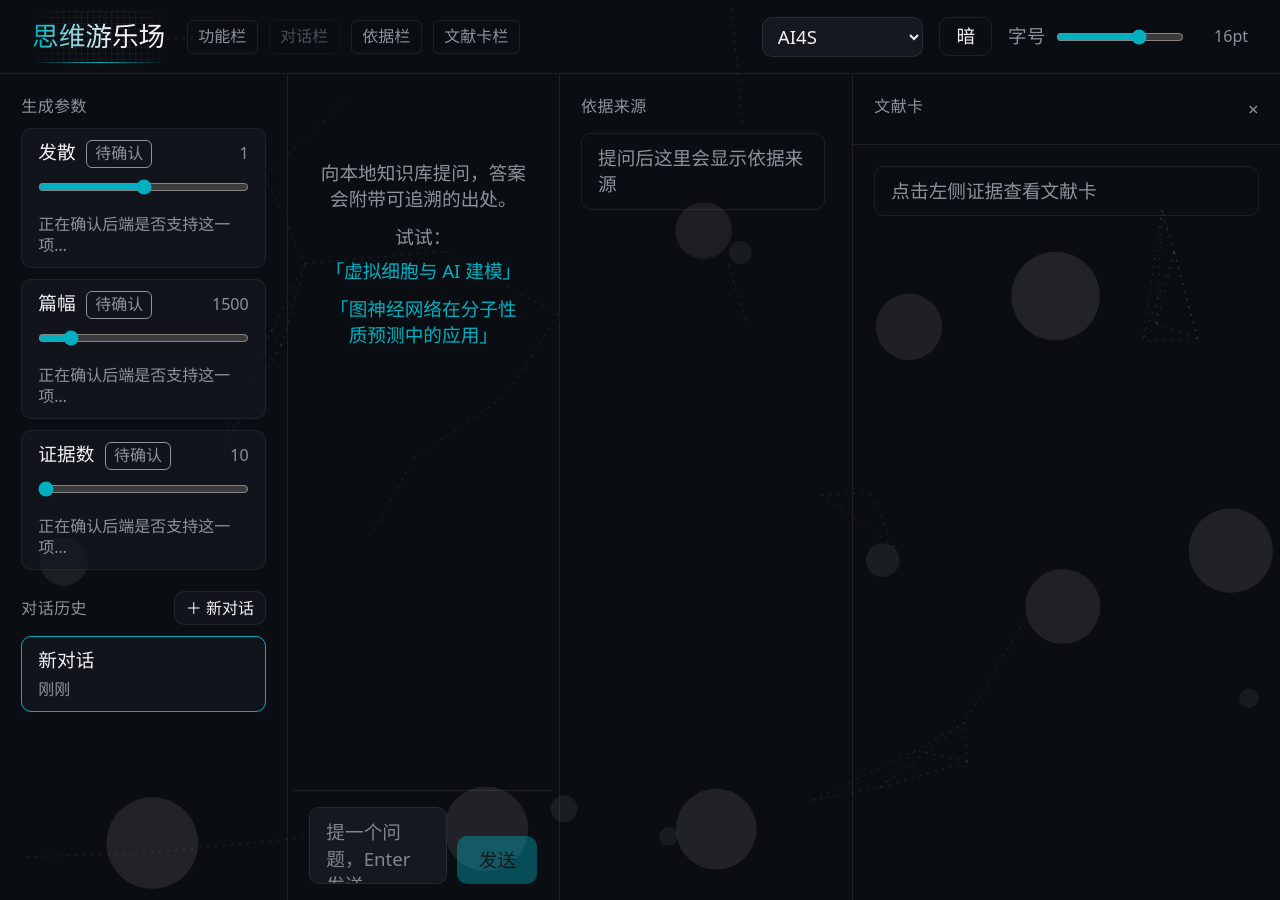
Test: App › opens the selected evidence in the doc panel and closes it when deselected
This screenshot has width=1280, height=900.
Expected: the text "点击左侧证据查看文献卡" is shown, [874,166,1259,216]
Type "自噬" into the text box.
click(378, 846); type("自噬")  # box [309,807,447,884]
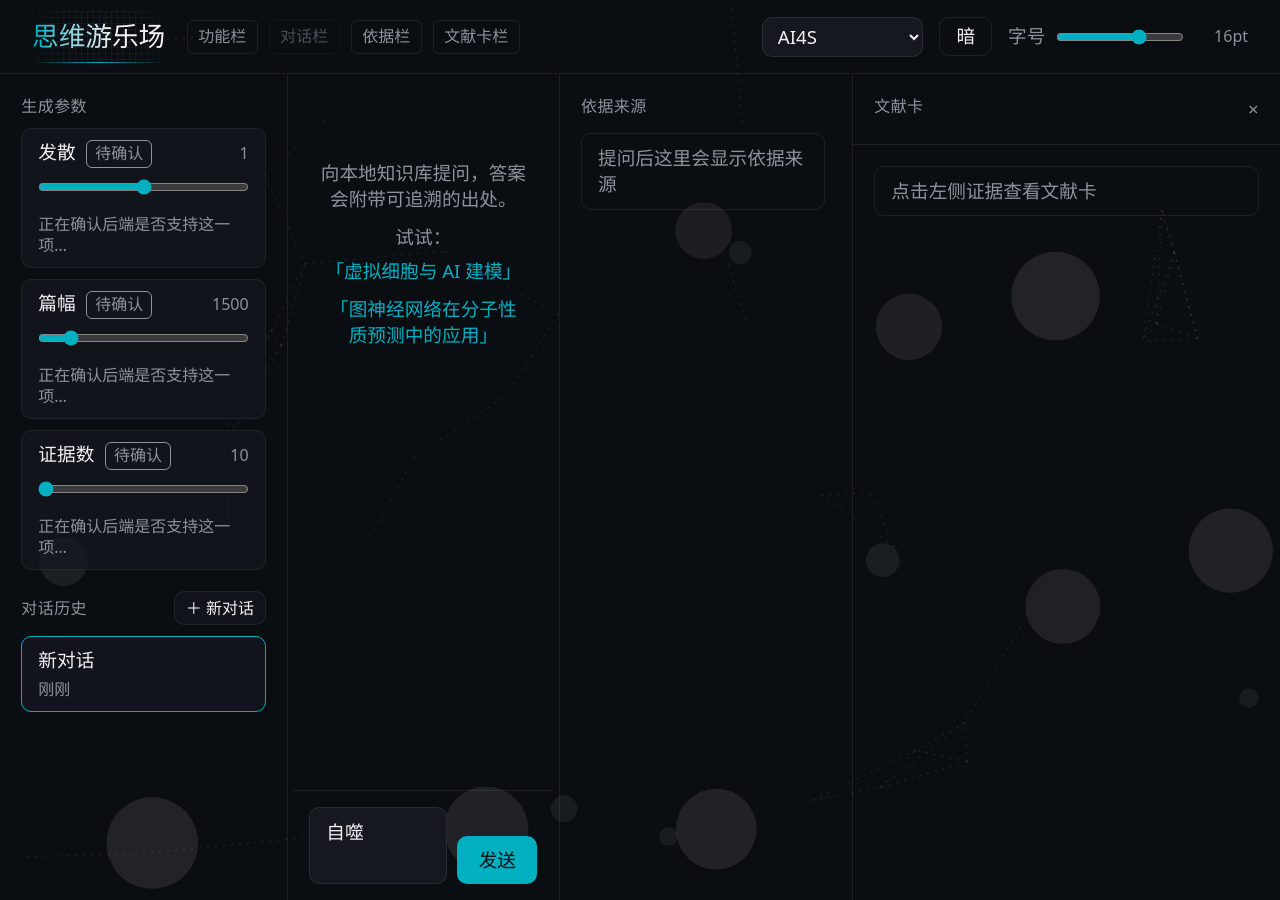
Press Enter in the text box, box [309,807,447,884]
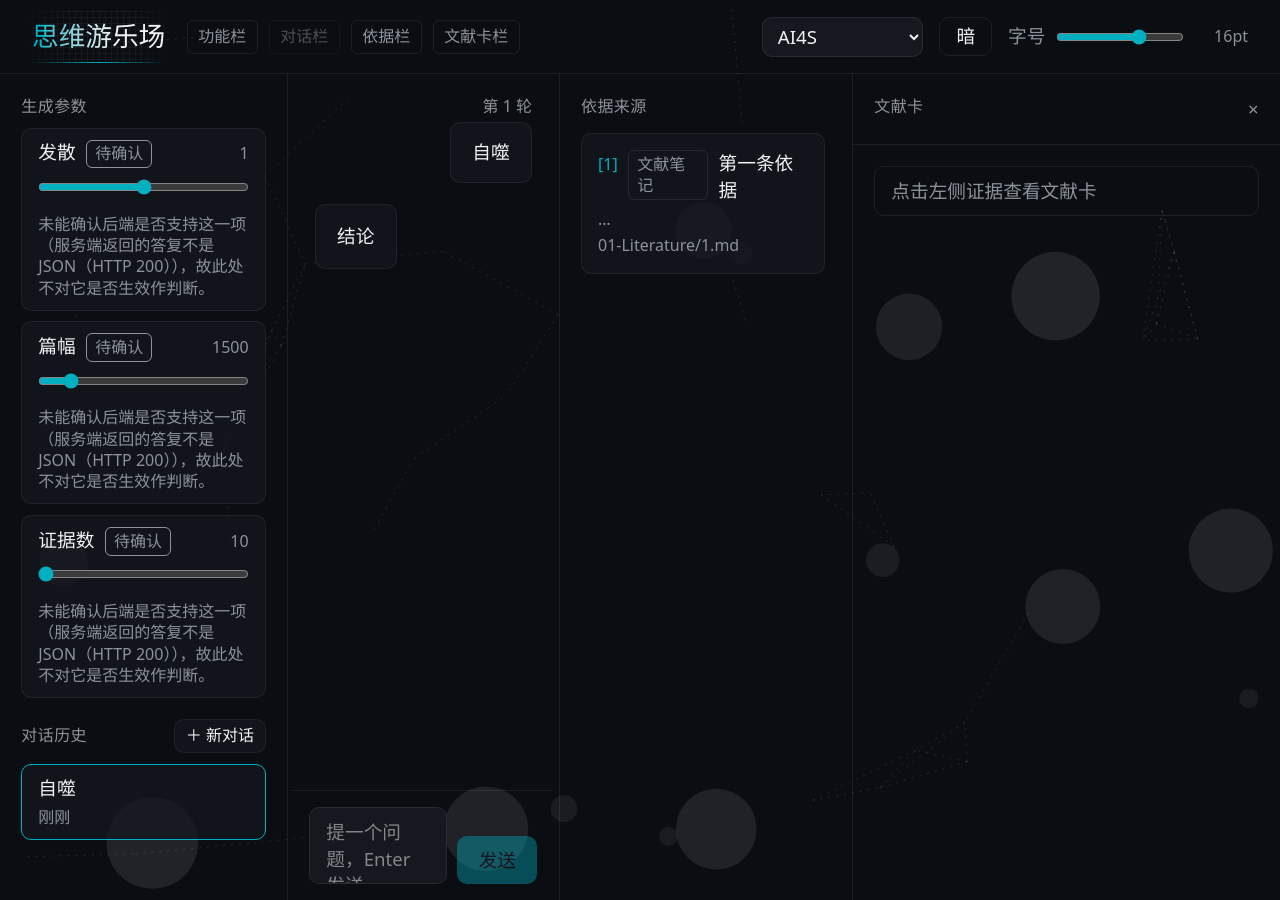
Expected: the text "第一条依据" is shown, [719,150,793,202]
Click the button "[1] 文献笔记 第一条依据 … 01-Literature/1.md".
click(703, 203)  # box [598,150,808,257]
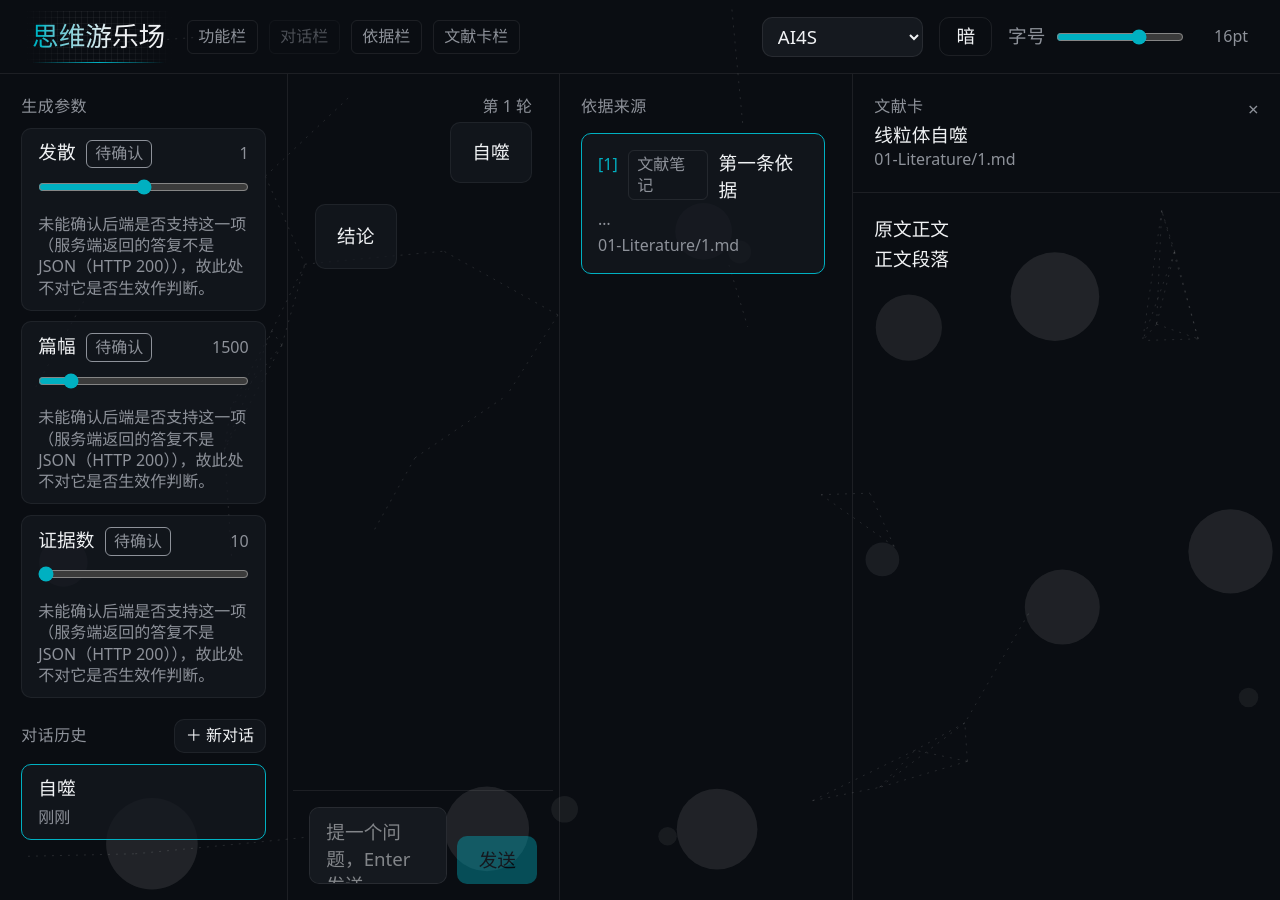
Expected: the element with test id "doc-ready" is shown, [874,216,949,271]
Expected: the text "正文段落" is shown, [874,246,949,272]
Click the button "[1] 文献笔记 第一条依据 … 01-Literature/1.md".
click(703, 203)  # box [598,150,808,257]
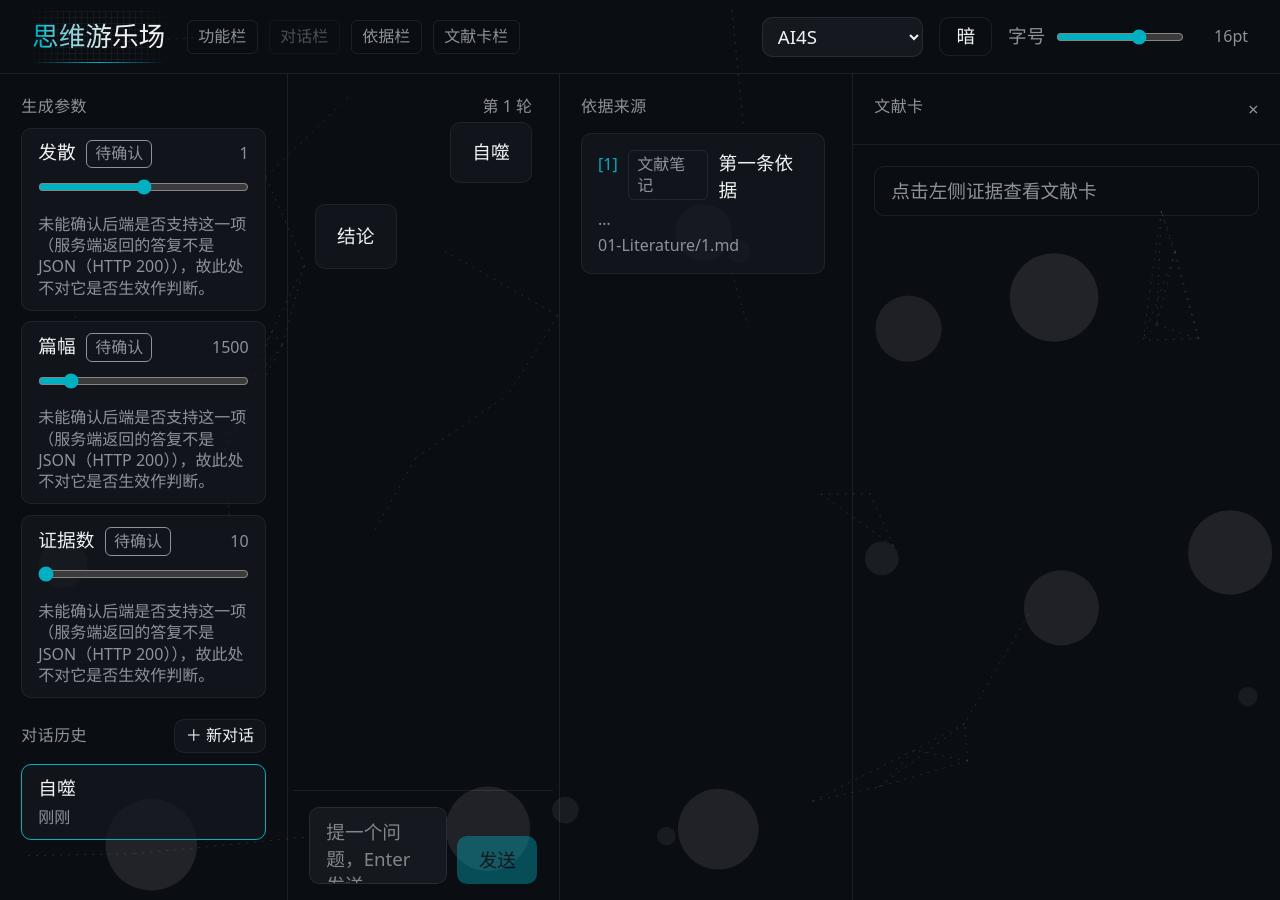
Expected: the text "点击左侧证据查看文献卡" is shown, [874,166,1259,216]
